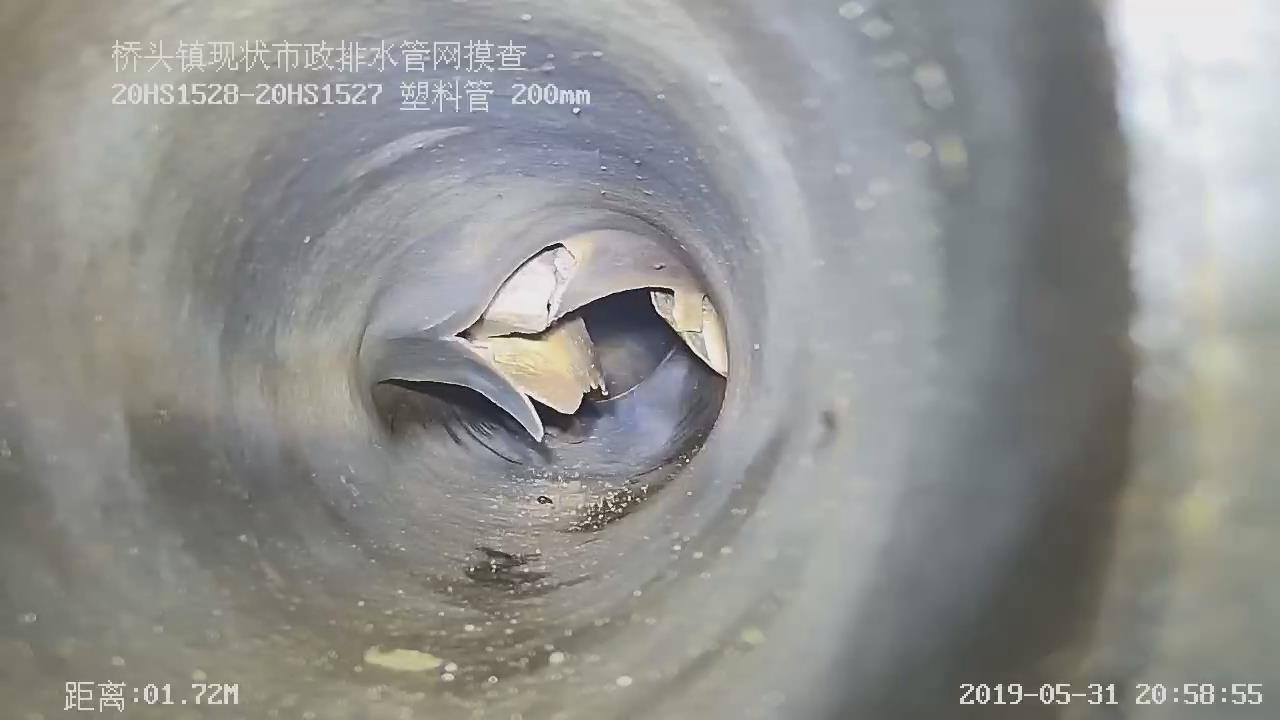PL: (389, 224, 741, 447)
